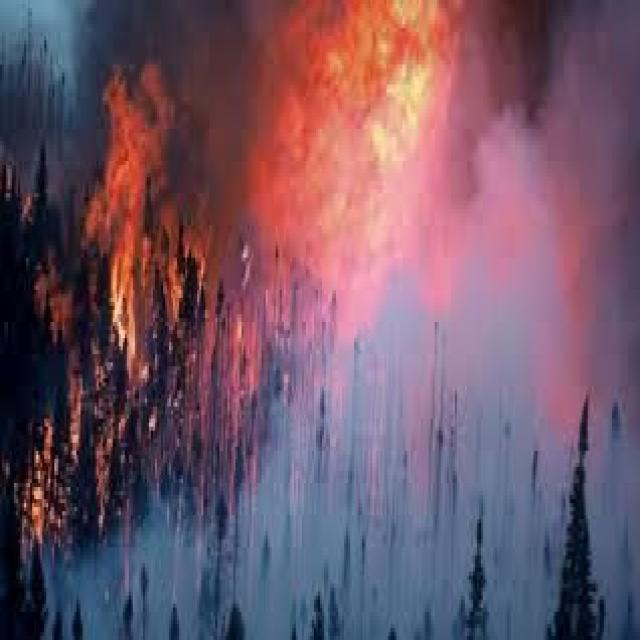Fire: (80, 61, 224, 362), (270, 23, 452, 244), (367, 54, 432, 168), (24, 421, 67, 530)
Smoke: (277, 265, 640, 636), (459, 17, 640, 282), (94, 434, 316, 640)
